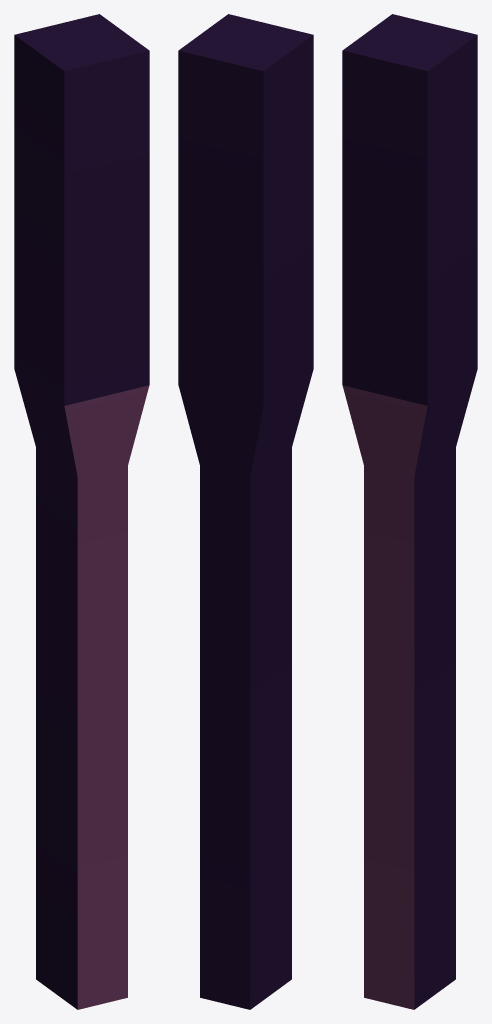
File: Barra_Columna.FBX
3 views of the same model, side by side, from view 1: azimuth 30°, elevation 25°; view 2: azimuth 150°, elevation 25°; view 3: azimuth 330°, elevation 25° (orthographic).
Visible parts, largest first — view 1: Box007; view 2: Box007; view 3: Box007.
Boxes of the visible parts, box(x1,y1,x2,y2) form: Box007: box(14, 14, 149, 1009); Box007: box(178, 14, 313, 1009); Box007: box(342, 14, 477, 1009).
Size of the model in its own units: 6.95 by 73.77 by 7.06.
